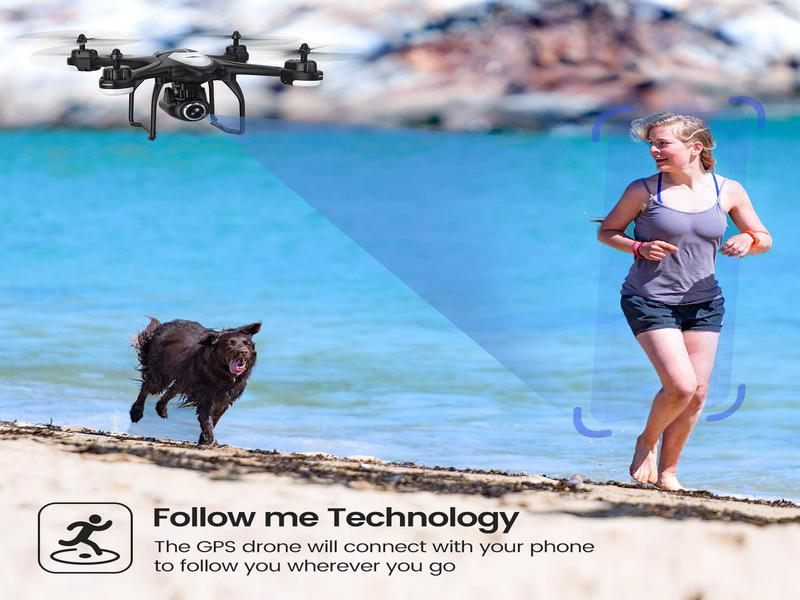enemy: (63, 26, 323, 135)
